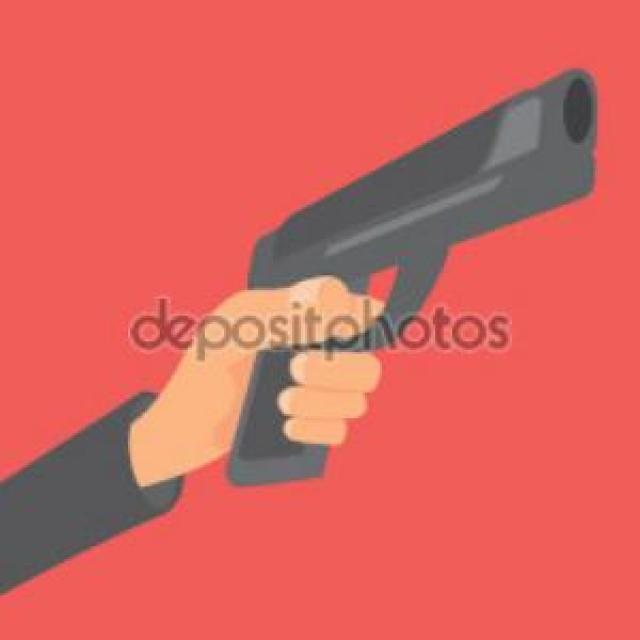pistol: (220, 69, 606, 486)
